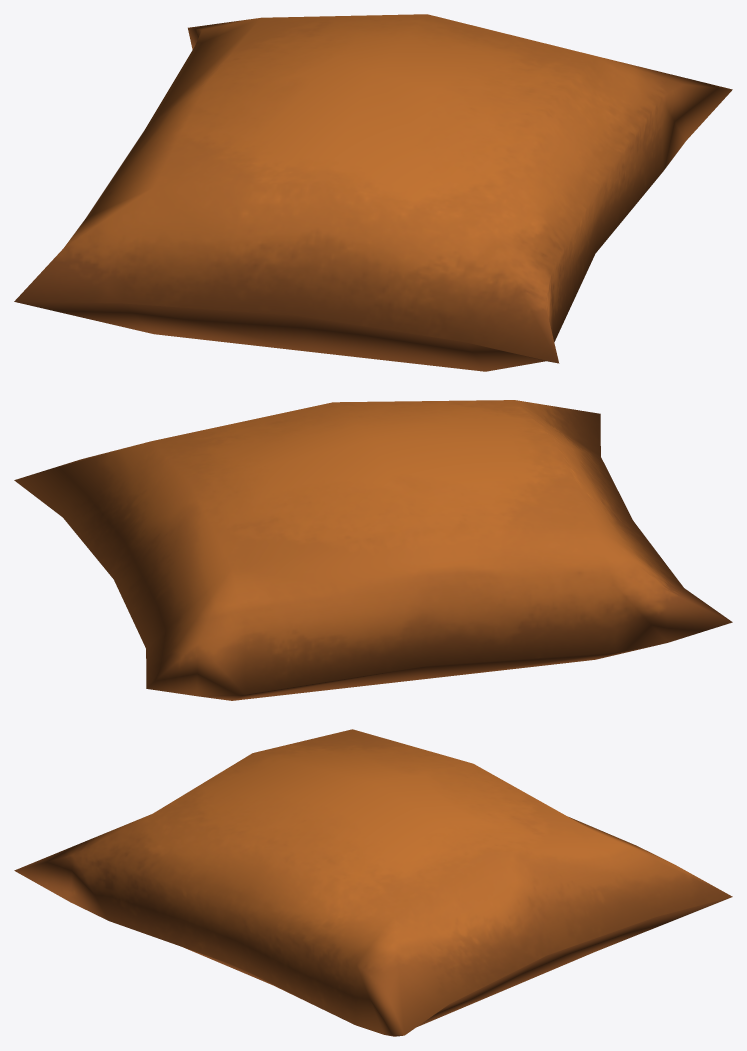
File: fertilizer.fbx
3 renders of one model, top to bottom at view 1: azimuth 30°, elevation 25°; view 2: azimuth 150°, elevation 25°; view 3: azimuth 270°, elevation 25°, orthographic. The views are drawn at different scales.
Parts seen in each view (by area): view 1: fert; view 2: fert; view 3: fert.
Boxes of the visible parts, bbox=[...] form: fert: bbox=[14, 14, 732, 371]; fert: bbox=[14, 400, 732, 700]; fert: bbox=[14, 729, 732, 1036].
Size of the model in its own units: 2.09 by 0.5145 by 2.09.
1 material, 1 textured.
